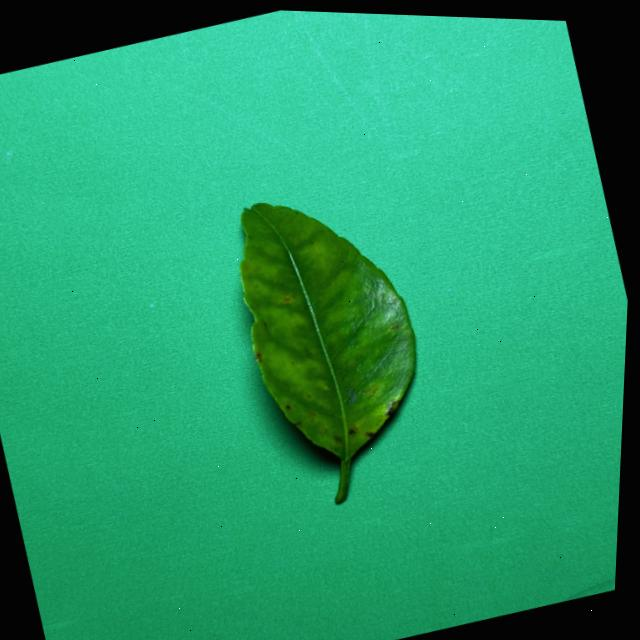greening: (241, 203, 414, 501)
